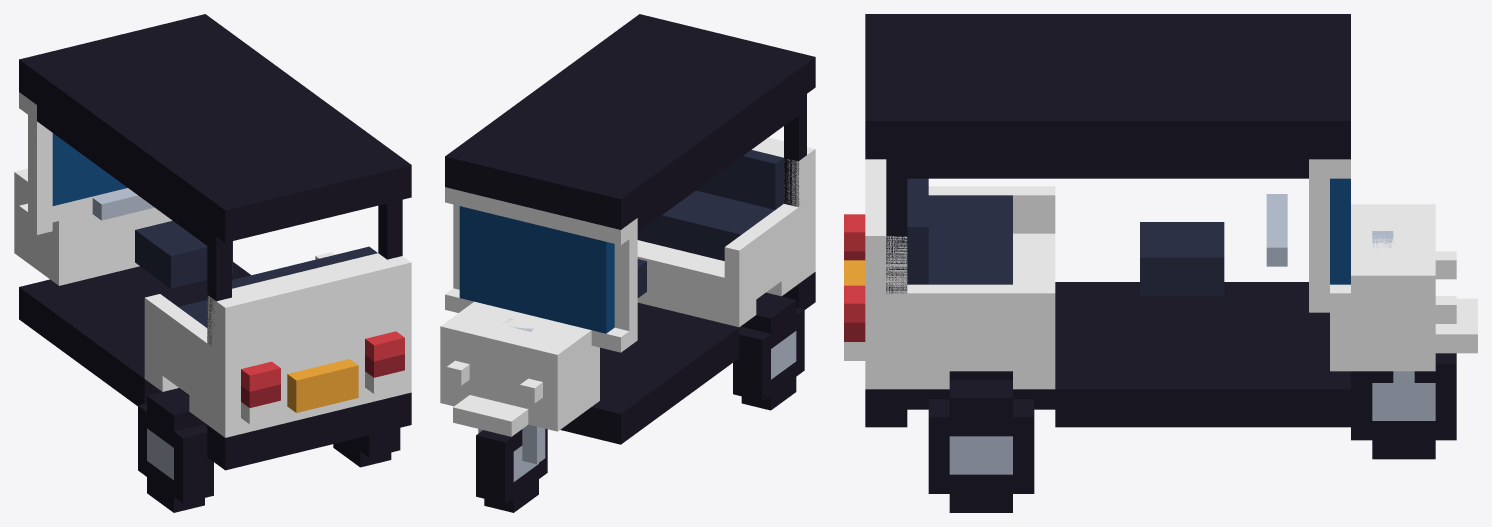
Rendered from auto_rickshaw.glb.
3 views of the same model, side by side, from view 1: azimuth 30°, elevation 25°; view 2: azimuth 150°, elevation 25°; view 3: azimuth 270°, elevation 25° (orthographic). The views are drawn at different scales.
Parts seen in each view (by area): view 1: BodyTrim, BodyPaint, WheelRL, BodyPlate, BodyGlass, WheelRR, BrakeRight, BrakeLeft, ReverseRight, TailLeft, TailRight, ReverseLeft; view 2: BodyTrim, BodyPaint, BodyGlass, WheelRL, WheelFront, HeadRight, HeadLeft; view 3: BodyTrim, BodyPaint, WheelRR, WheelFront, BodyGlass, BrakeLeft, BrakeRight.
Boxes of the visible parts, box(x1,y1,x2,y2) form: BodyTrim: box(19, 14, 411, 470); BodyPaint: box(14, 92, 411, 437); WheelRL: box(138, 388, 213, 512); BodyPlate: box(287, 359, 358, 412); BodyGlass: box(52, 133, 127, 205); WheelRR: box(333, 428, 400, 467); BrakeRight: box(365, 331, 404, 361); BrakeLeft: box(241, 361, 280, 391); ReverseRight: box(365, 370, 404, 393); TailLeft: box(241, 384, 280, 407); TailRight: box(365, 354, 404, 377); ReverseLeft: box(241, 400, 280, 424); BodyTrim: box(445, 14, 815, 464); BodyPaint: box(440, 137, 815, 436); BodyGlass: box(459, 206, 614, 333); WheelRL: box(733, 293, 804, 410); WheelFront: box(476, 428, 547, 512); HeadRight: box(446, 360, 469, 385); HeadLeft: box(520, 378, 542, 403); BodyTrim: box(865, 14, 1414, 427); BodyPaint: box(865, 159, 1477, 389); WheelRR: box(928, 380, 1034, 512); WheelFront: box(1351, 353, 1456, 459); BodyGlass: box(1330, 178, 1350, 284); BrakeLeft: box(844, 214, 865, 251); BrakeRight: box(844, 285, 865, 322).
Bounding box in the file's own units: 1.4 × 2 × 3.
